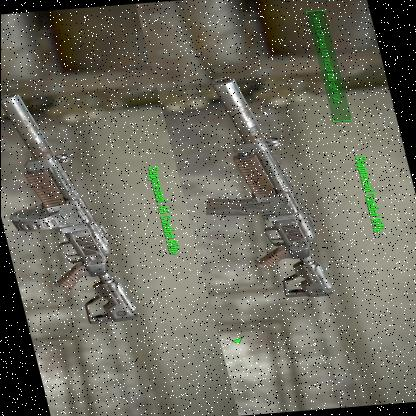rifle: (176, 72, 337, 310), (0, 91, 139, 343)
